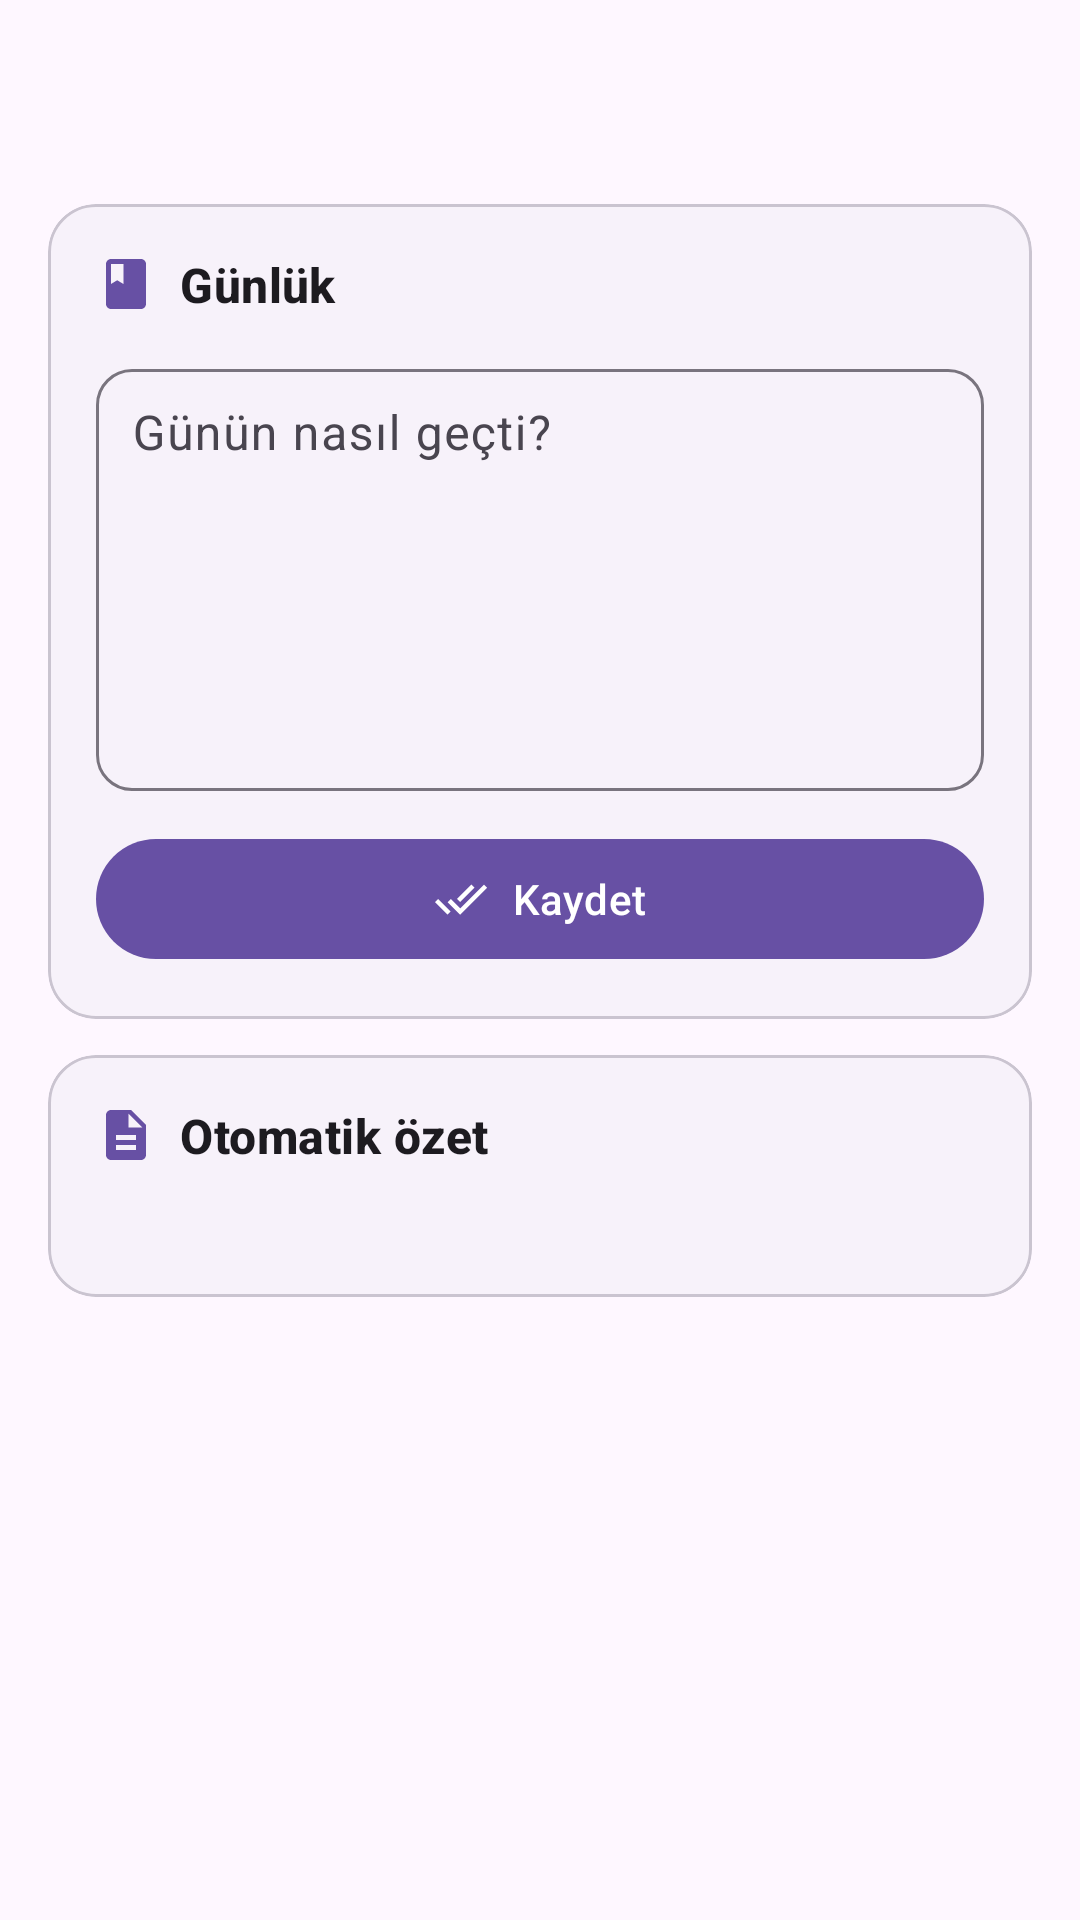

Screen size 1080x1920. Icon name, then its box in pixels as [left=x1, top=y1, right=x2, bottom=y2]:
journal book: [left=106, top=259, right=146, bottom=309]
summarize: [left=106, top=1110, right=146, bottom=1160]
